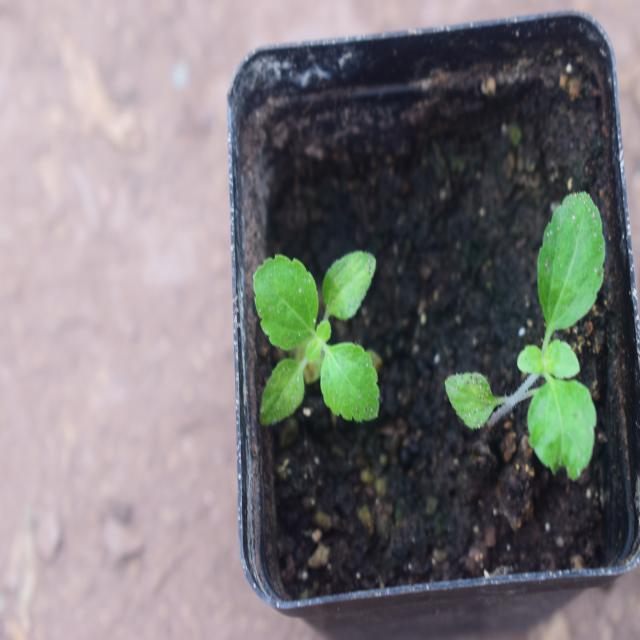billygoat_weed: (499, 180, 612, 480), (251, 238, 379, 429)
